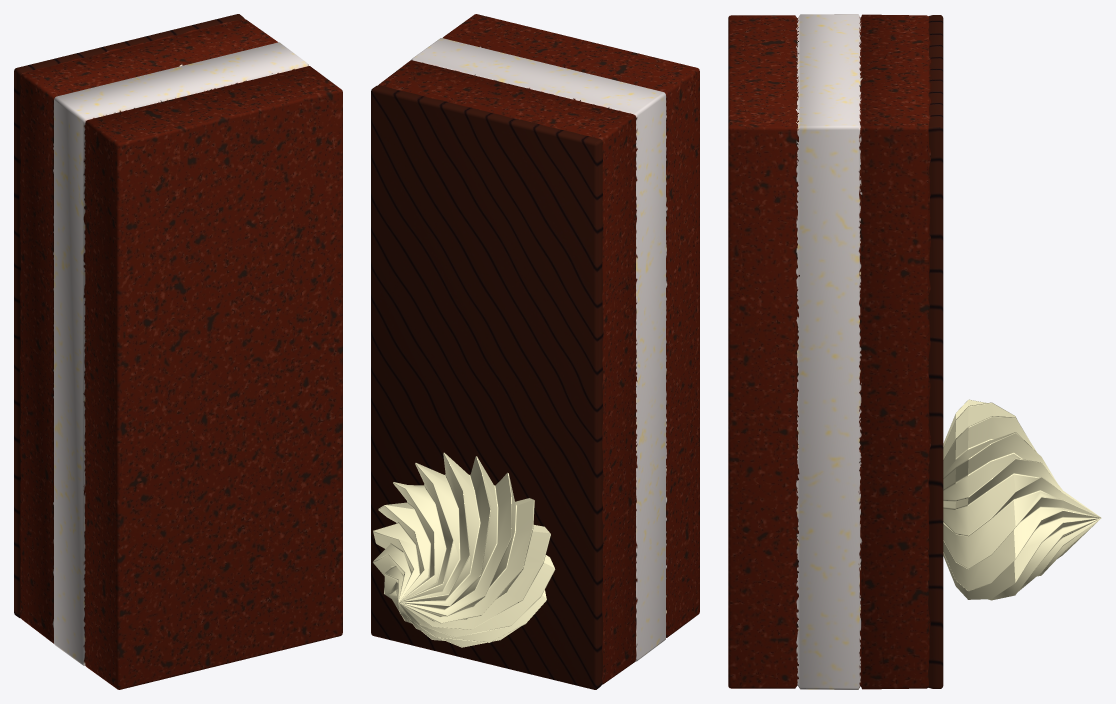
File: Cake.fbx
3 views of the same model, side by side, from view 1: azimuth 30°, elevation 25°; view 2: azimuth 150°, elevation 25°; view 3: azimuth 270°, elevation 25° (orthographic). The views are drawn at different scales.
Visible parts, largest first — view 1: Cake; view 2: Cake; view 3: Cake.
Boxes of the visible parts, box(x1,y1,x2,y2) form: Cake: box(14, 14, 342, 689); Cake: box(371, 14, 699, 689); Cake: box(728, 14, 1101, 689).
Size of the model in its own units: 43.15 by 99.77 by 59.85.
1 material, 1 textured.
